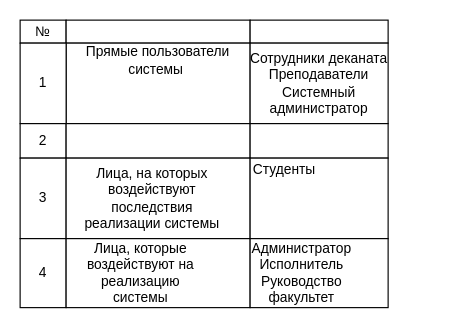
The diagram is 449 pixels wide and 328 high, and some of its shapes have lost their labels. The shapes that lost their labels are listed below. From the top down, each one's centre as x and y in pixels, then its label:
the point at 157,31: Заинтересованные лица
the point at 318,31: Описание
the point at 157,140: Непрямые пользователи системы
the point at 318,140: Руководство факультета
